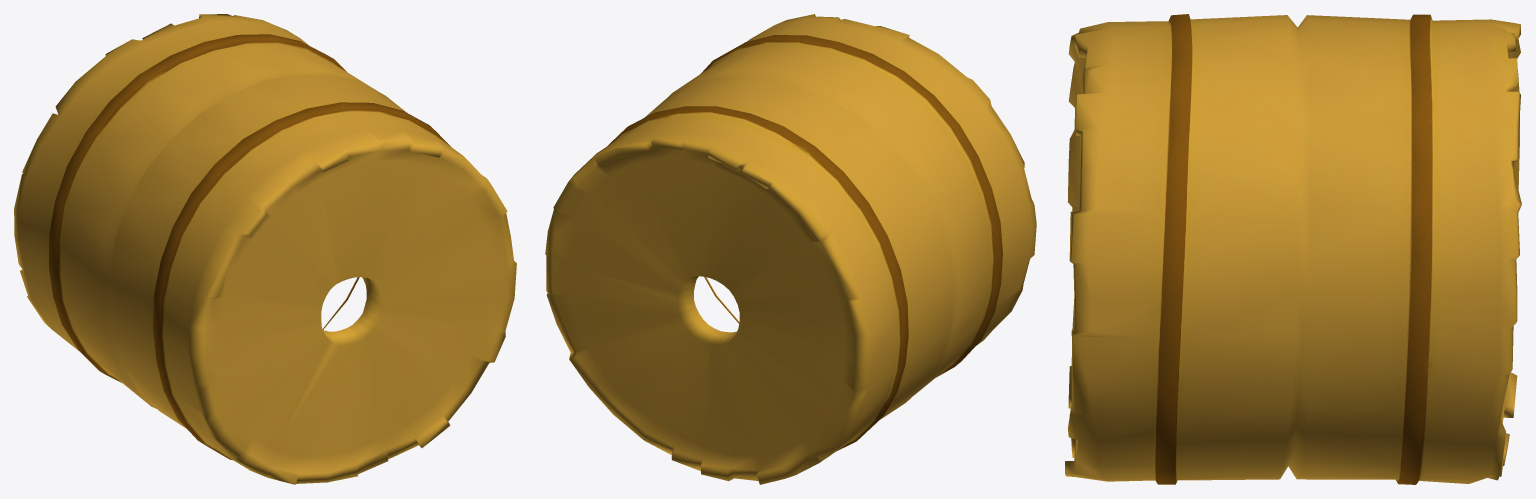
The picture shows the model from 3 angles, left to right: view 1: azimuth 30°, elevation 25°; view 2: azimuth 150°, elevation 25°; view 3: azimuth 270°, elevation 25°; orthographic projection. The views are drawn at different scales.
Parts seen in each view (by area): view 1: tripo_node_7466f038-db0a-4d6e-972e-763a038f74a8; view 2: tripo_node_7466f038-db0a-4d6e-972e-763a038f74a8; view 3: tripo_node_7466f038-db0a-4d6e-972e-763a038f74a8.
Part boxes in pixels (left/top/right/bottom): tripo_node_7466f038-db0a-4d6e-972e-763a038f74a8: left=14, top=14, right=516, bottom=484; tripo_node_7466f038-db0a-4d6e-972e-763a038f74a8: left=545, top=14, right=1036, bottom=484; tripo_node_7466f038-db0a-4d6e-972e-763a038f74a8: left=1065, top=14, right=1521, bottom=484.
Bounding box in the file's own units: 0.998 × 0.9902 × 0.959.
Materials: 1 (1 with a texture image).
